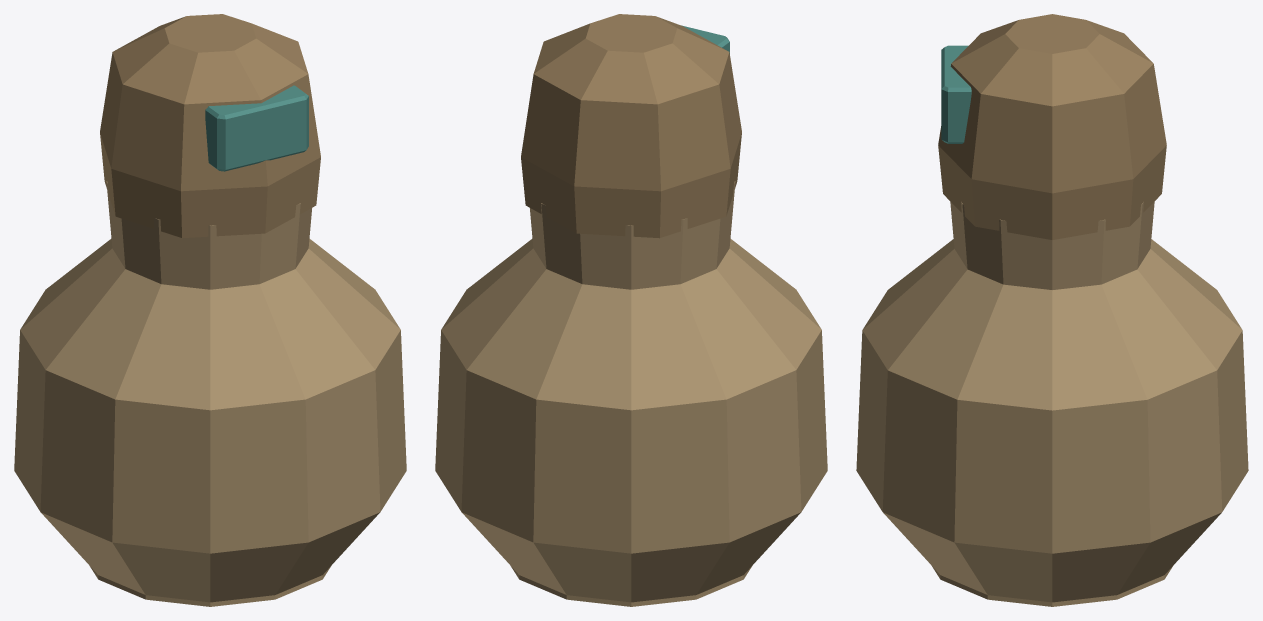
File: canopic-jar.glb
3 views of the same model, side by side, from view 1: azimuth 30°, elevation 25°; view 2: azimuth 150°, elevation 25°; view 3: azimuth 270°, elevation 25° (orthographic).
Visible parts, largest first — view 1: canopic-jar__body; view 2: canopic-jar__body; view 3: canopic-jar__body.
Boxes of the visible parts, bbox=[...] form: canopic-jar__body: bbox=[14, 14, 406, 606]; canopic-jar__body: bbox=[435, 14, 827, 606]; canopic-jar__body: bbox=[856, 14, 1248, 606].
Size of the model in its own units: 0.24 by 0.35 by 0.24.
